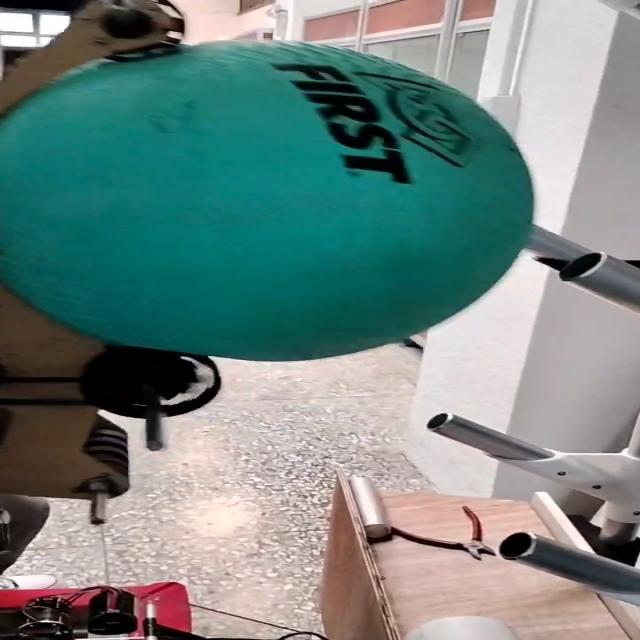ALGAE: (0, 40, 540, 368)
CORAL: (400, 605, 528, 640)
